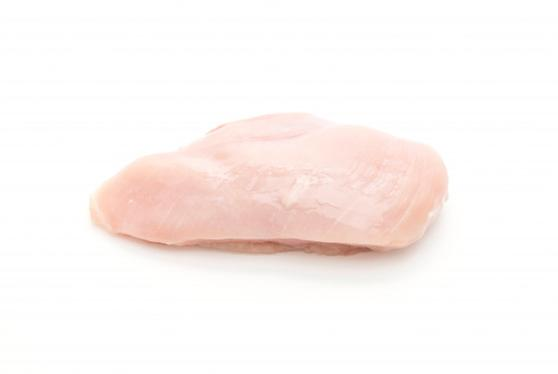chicken_fillet: (93, 107, 450, 254)
